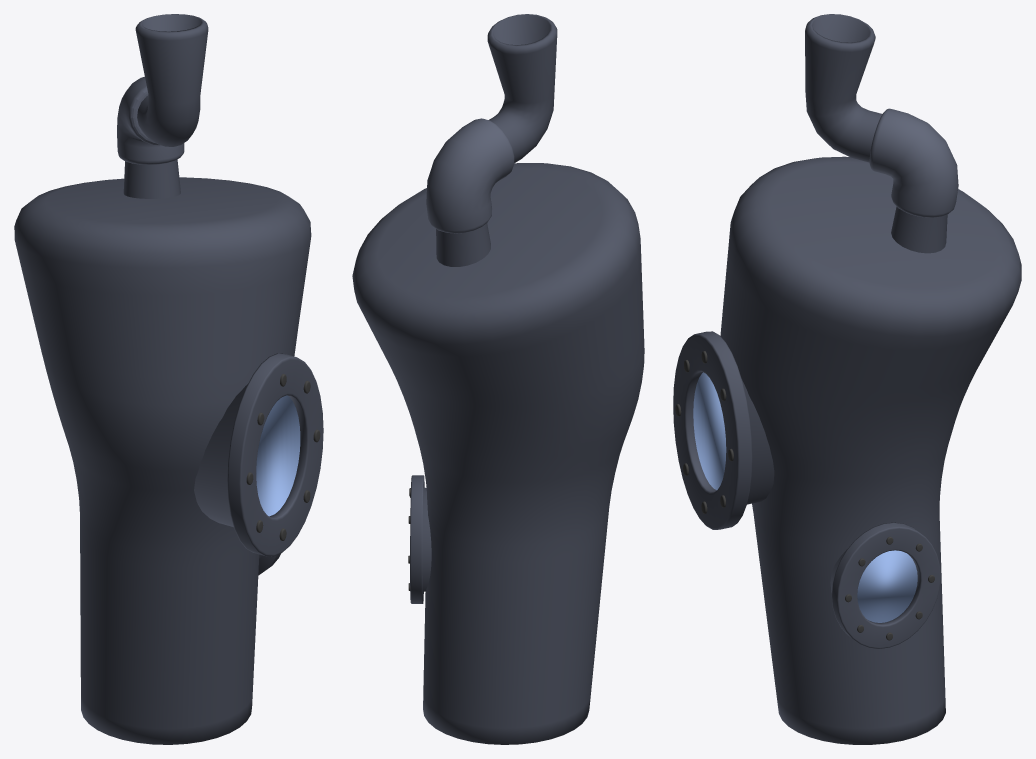
Rendered from rumahnpc.glb.
3 renders of one model, left to right at view 1: azimuth 30°, elevation 25°; view 2: azimuth 150°, elevation 25°; view 3: azimuth 270°, elevation 25°, orthographic. The views are drawn at different scales.
Visible parts, largest first — view 1: Circle.016; view 2: Circle.016; view 3: Circle.016.
Boxes of the visible parts, x1,y1,x2,y2 form: Circle.016: (14, 14, 323, 744); Circle.016: (352, 14, 644, 744); Circle.016: (673, 14, 1021, 744).
Size of the model in its own units: 2.98 by 7.78 by 3.6.
